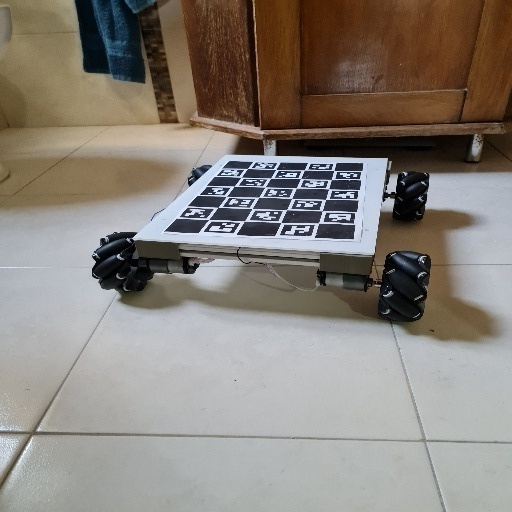Omniwheel: (92, 154, 431, 324)
